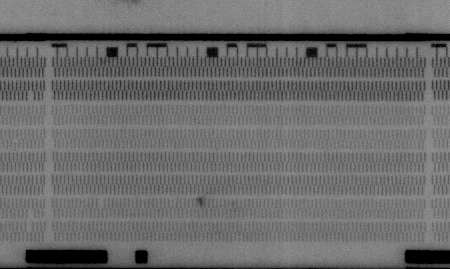Broken hole: (24, 208, 36, 231), (25, 90, 37, 104), (97, 198, 106, 208)
Oblique printing: (11, 139, 21, 153)
